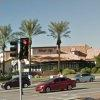Palm tree: (22, 13, 74, 69)
